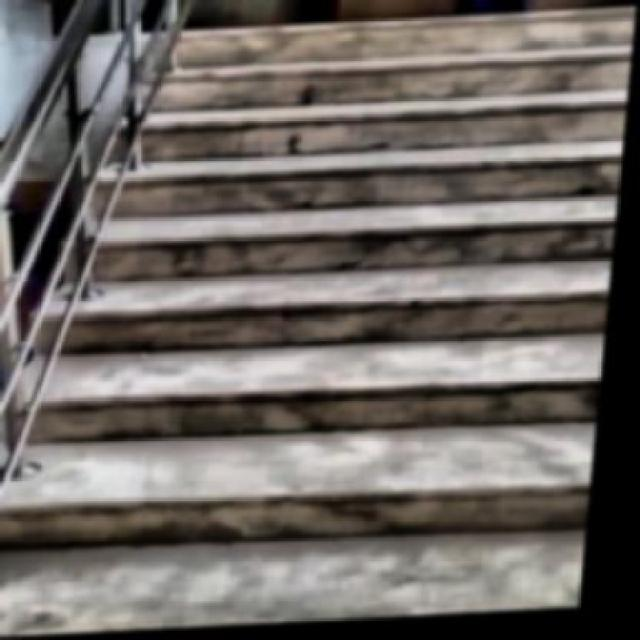stair: (60, 14, 635, 634)
